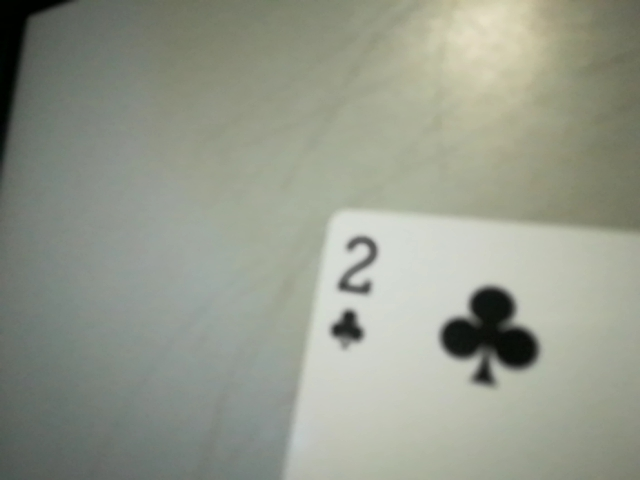mh 2: (316, 222, 393, 360)
